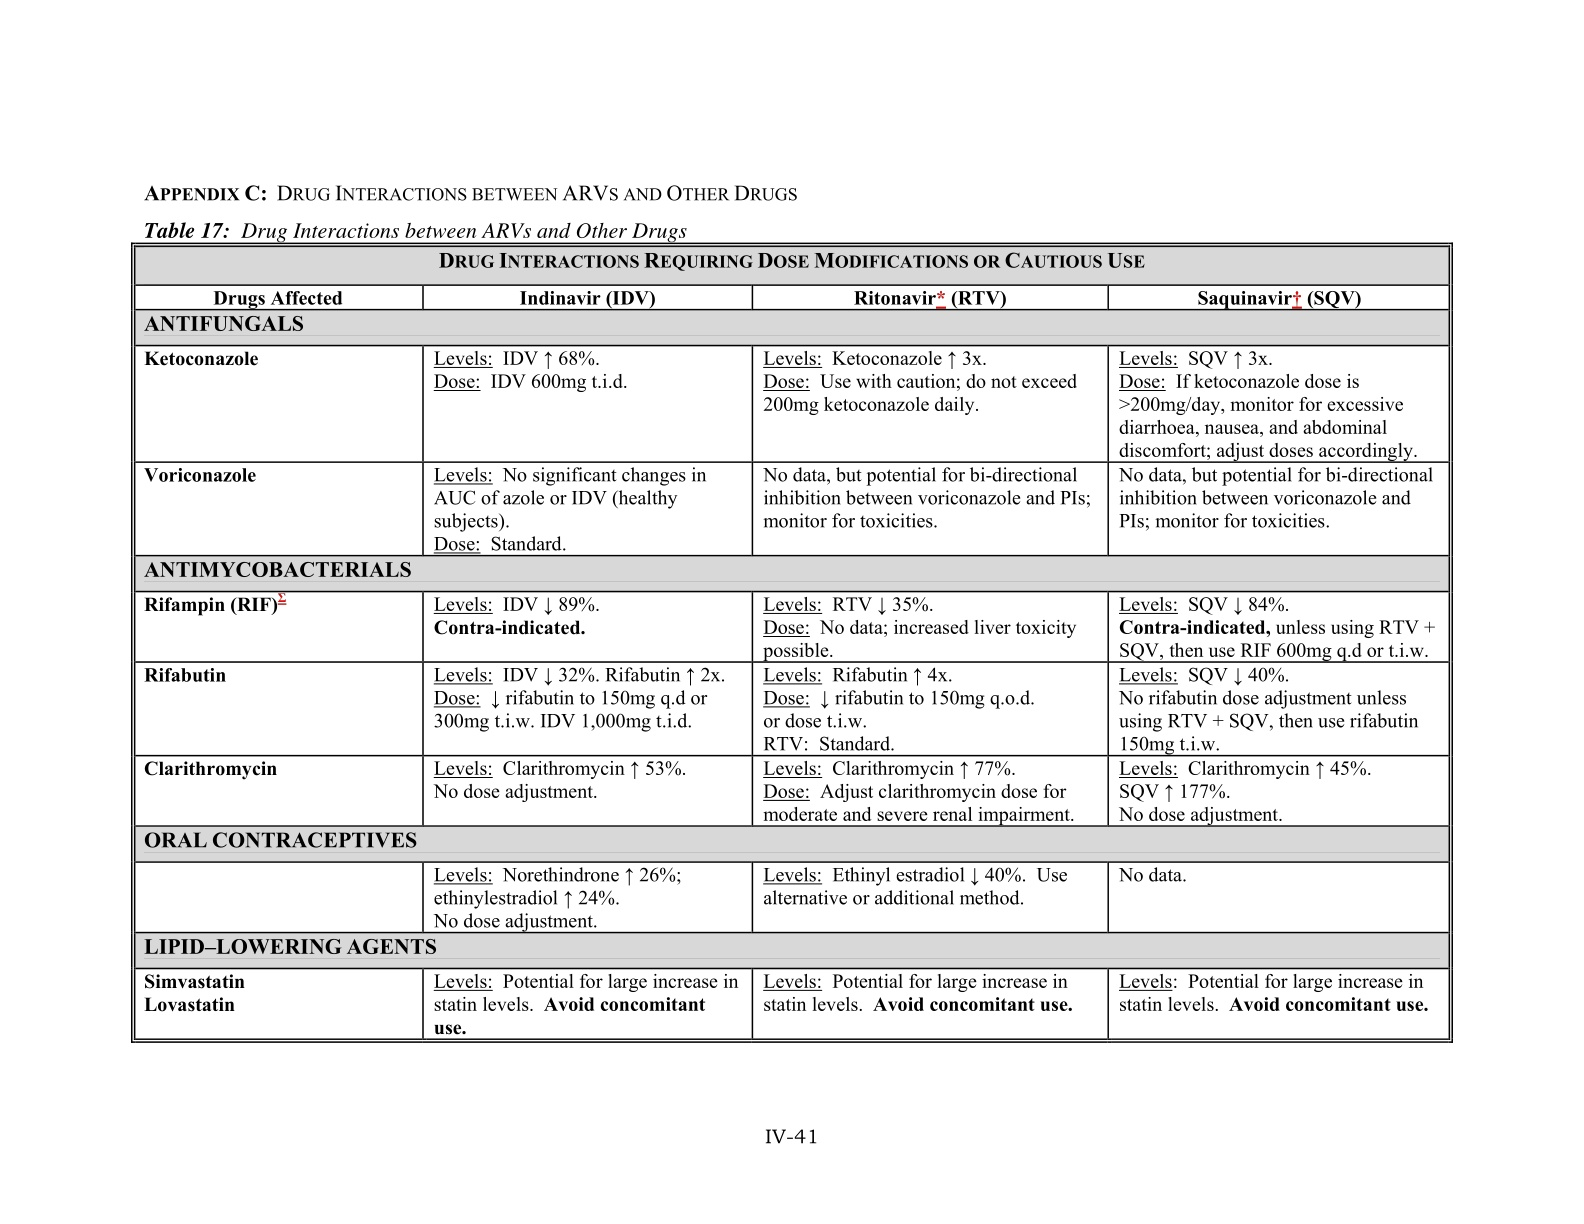merged_cells: (129, 240, 1454, 1044)
